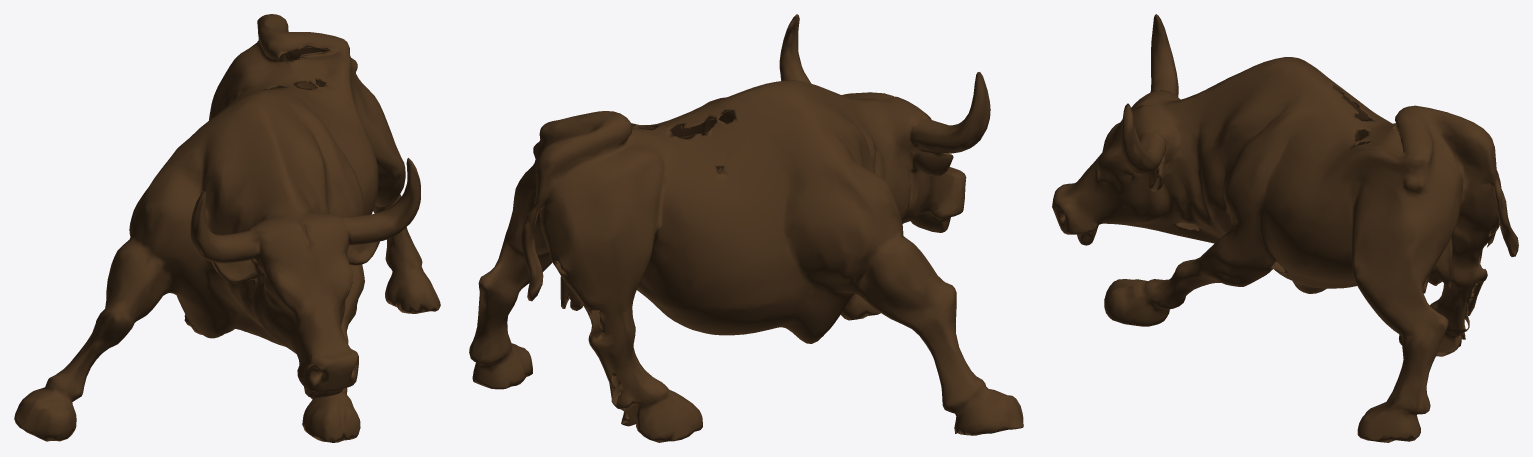
The model's file is bull.glb.
3 views of the same model, side by side, from view 1: azimuth 30°, elevation 25°; view 2: azimuth 150°, elevation 25°; view 3: azimuth 270°, elevation 25° (orthographic). The views are drawn at different scales.
Parts seen in each view (by area): view 1: Trimmy_Bull; view 2: Trimmy_Bull; view 3: Trimmy_Bull.
Boxes of the visible parts, <box> form: Trimmy_Bull: <box>14,14,440,442</box>; Trimmy_Bull: <box>469,14,1023,442</box>; Trimmy_Bull: <box>1052,14,1518,442</box>.
Size of the model in its own units: 3.28 by 1.95 by 3.
